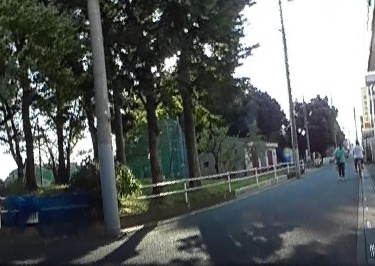person: (333, 142, 347, 177), (350, 138, 364, 171)
